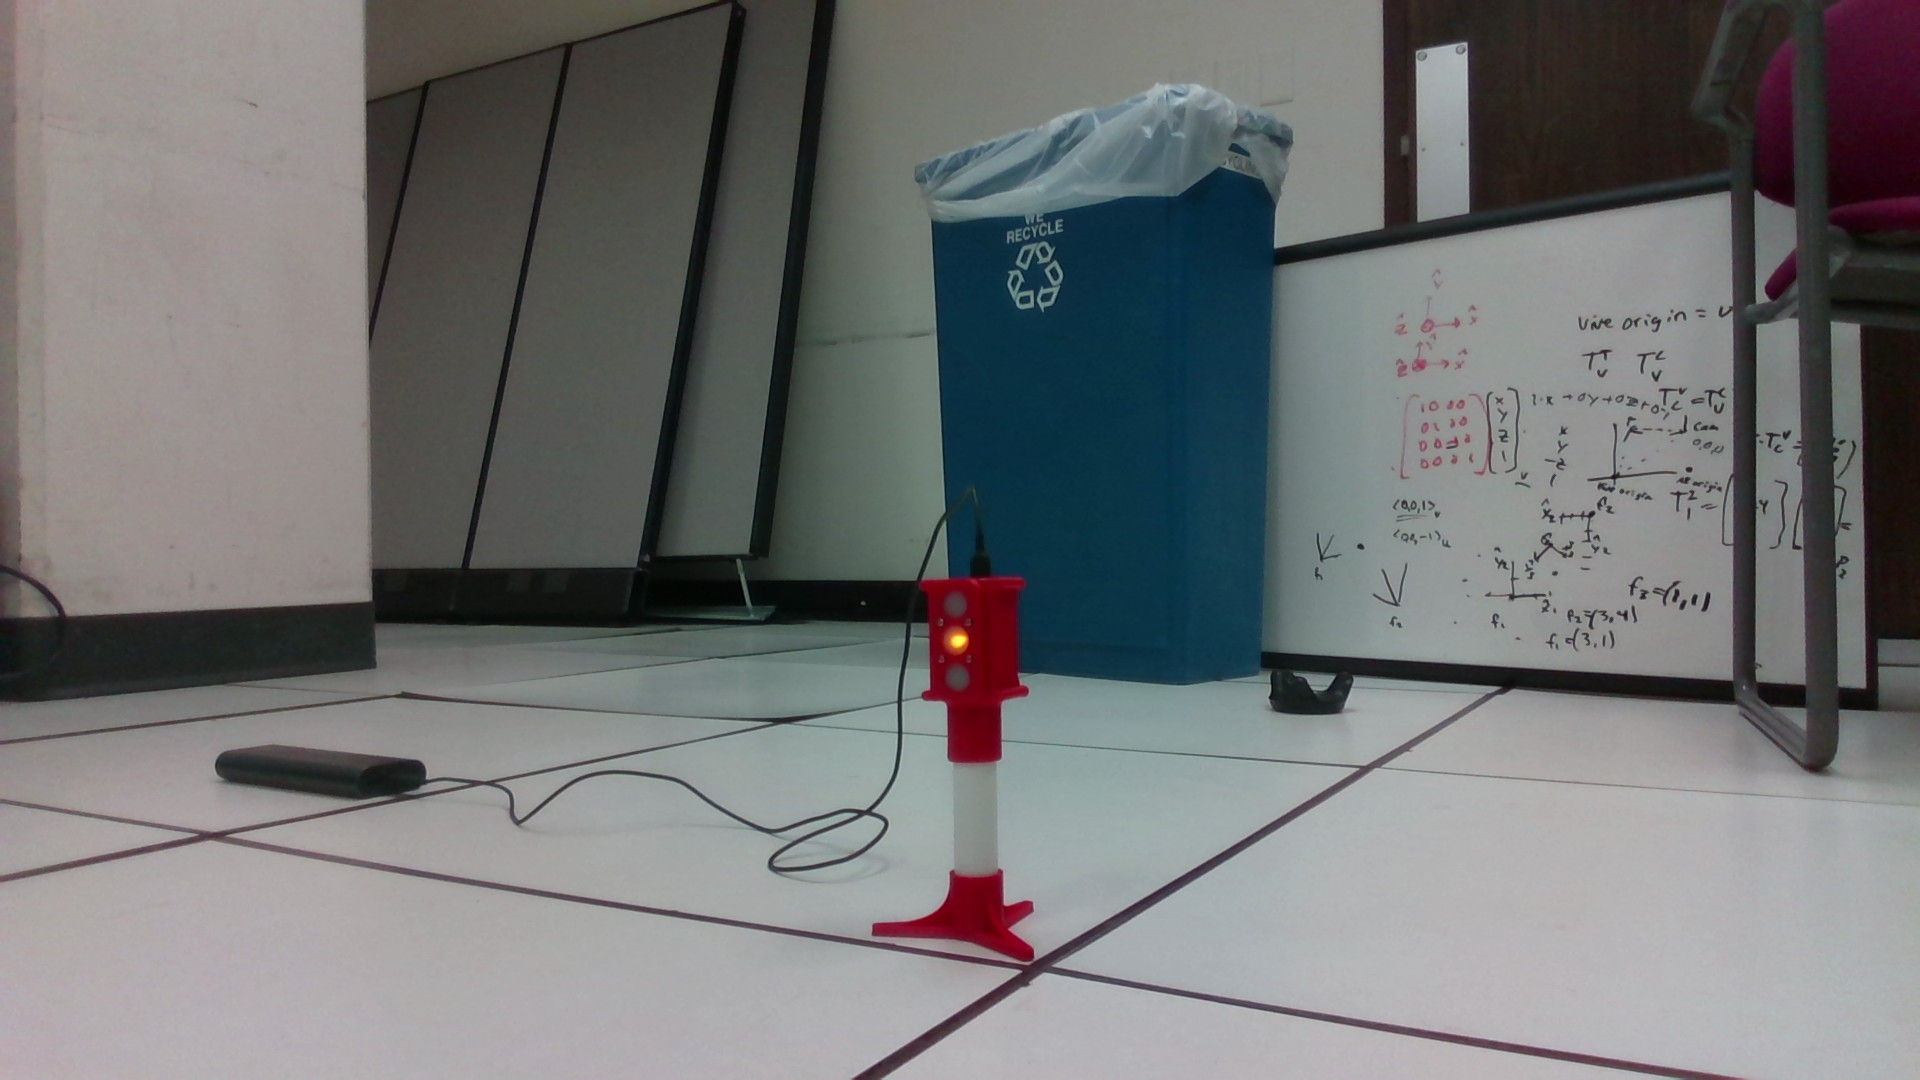stoplight: (920, 578, 1030, 767)
